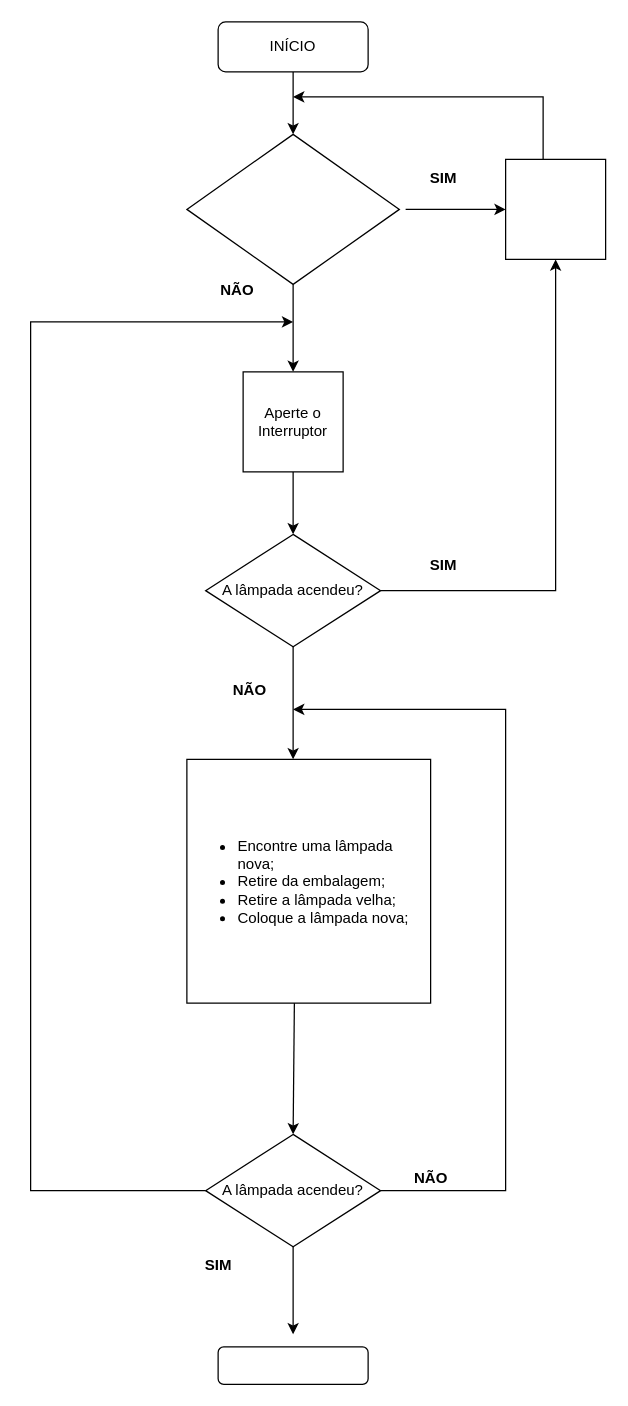
This 628x1406 diagram has some shape labels left out. Here are the shapes that lost their labels. From the top down, the centre of each, then its label:
point (292, 208): A lâmpada está acessa?
point (555, 208): Vá para outro cômodo
point (292, 1365): FIM
